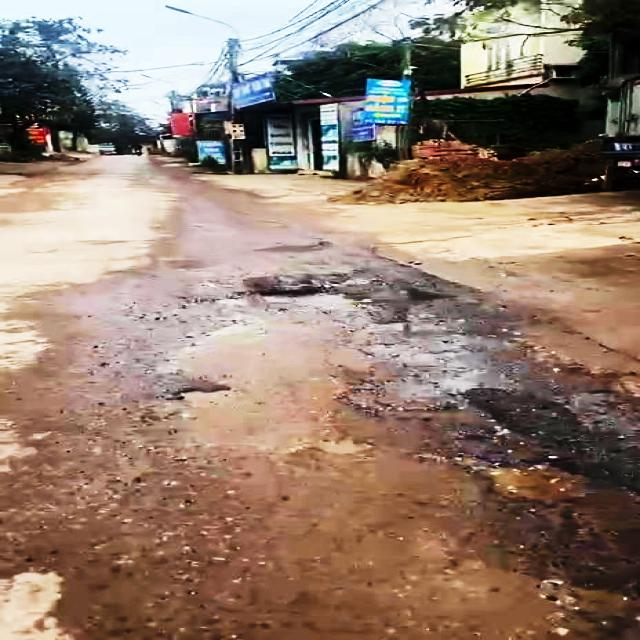pothole: (140, 283, 410, 462), (422, 447, 640, 640)
